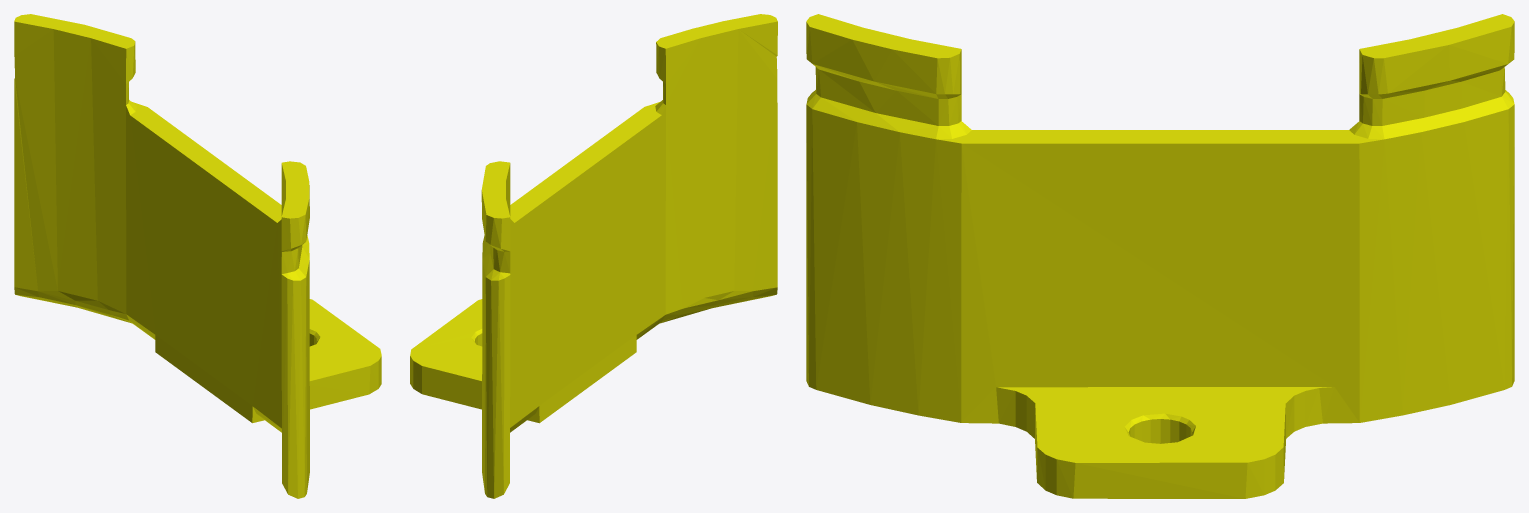
The model's file is 1_base_realsense_mount_mesh.dae.
3 renders of one model, left to right at view 1: azimuth 30°, elevation 25°; view 2: azimuth 150°, elevation 25°; view 3: azimuth 270°, elevation 25°, orthographic. The views are drawn at different scales.
Visible parts, largest first — view 1: Base_Realsense_Mount; view 2: Base_Realsense_Mount; view 3: Base_Realsense_Mount.
Part boxes in pixels (x1,y1,x2,y2): Base_Realsense_Mount: (14, 14, 381, 498); Base_Realsense_Mount: (410, 14, 777, 498); Base_Realsense_Mount: (806, 14, 1514, 498).
Bounding box in the file's own units: 0.0296 × 0.0712 × 0.04.
